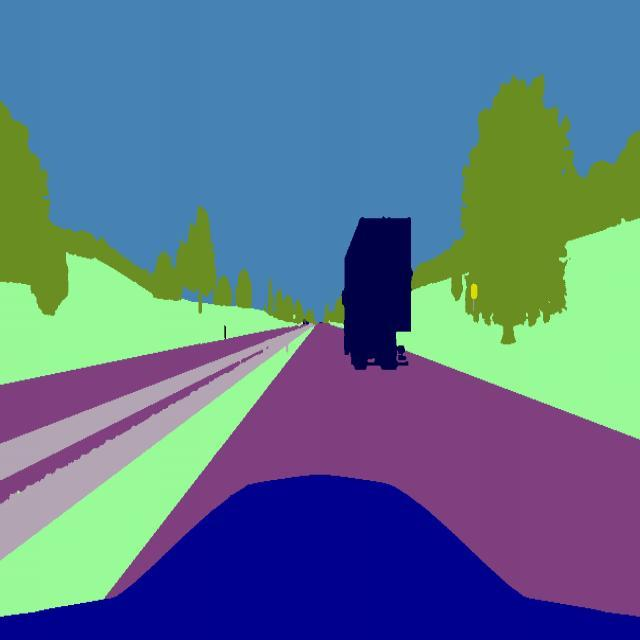safe: (341, 214, 411, 374)
